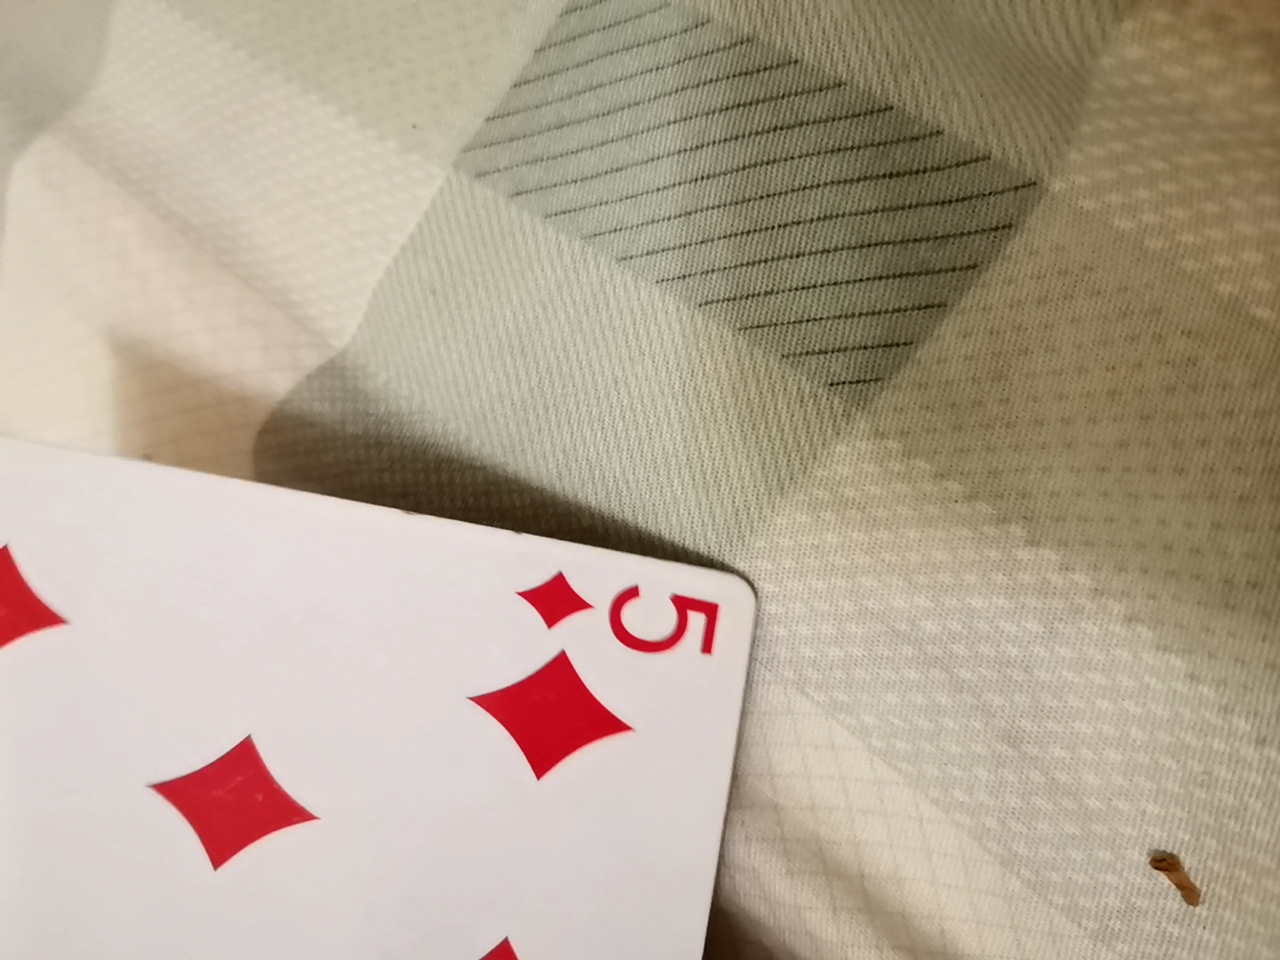fk 5: (1, 418, 775, 956)
